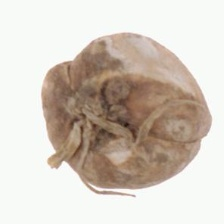L1: (56, 85, 115, 142)
L2: (39, 32, 212, 190)
